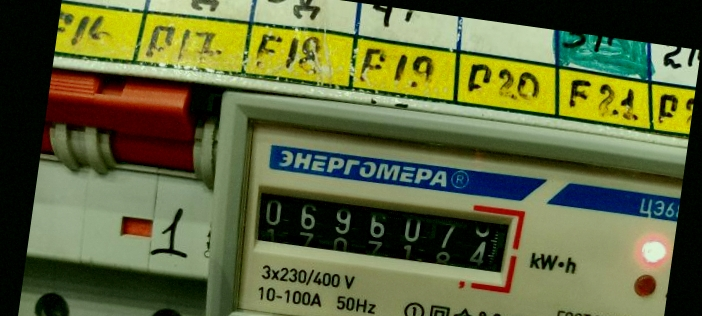0: (401, 211, 424, 244), (261, 195, 284, 227)
4: (465, 236, 488, 267)
6: (294, 199, 320, 231), (366, 209, 389, 239)
7: (435, 217, 456, 249)
9: (331, 205, 353, 236)
screen: (232, 165, 527, 293)
